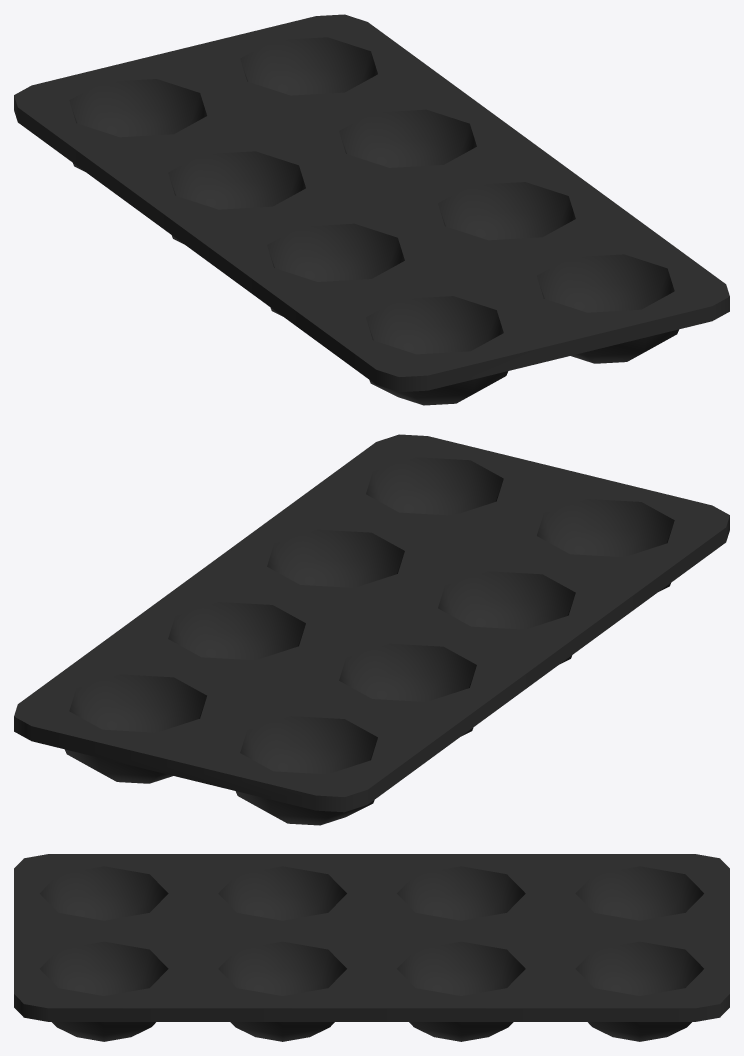
The model's file is BakingMold_Silicone_02.fbx.
The picture shows the model from 3 angles, top to bottom: view 1: azimuth 30°, elevation 25°; view 2: azimuth 150°, elevation 25°; view 3: azimuth 270°, elevation 25°; orthographic projection. The views are drawn at different scales.
Visible parts, largest first — view 1: BakingMold_Silicone_02; view 2: BakingMold_Silicone_02; view 3: BakingMold_Silicone_02.
Part boxes in pixels (x1,y1,x2,y2): BakingMold_Silicone_02: [14, 14, 729, 405]; BakingMold_Silicone_02: [14, 434, 729, 825]; BakingMold_Silicone_02: [14, 854, 729, 1041].
Bounding box in the file's own units: 0.1359 × 0.0261 × 0.2666.
